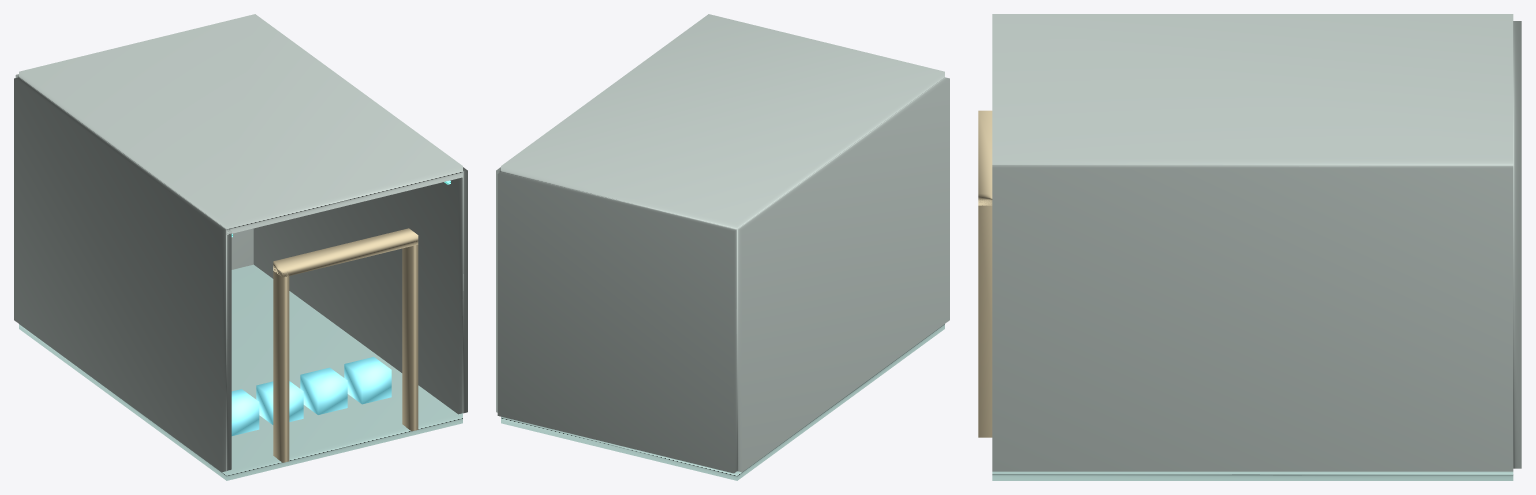
The model's file is food-cold-annex-shell.glb.
The picture shows the model from 3 angles, left to right: view 1: azimuth 30°, elevation 25°; view 2: azimuth 150°, elevation 25°; view 3: azimuth 270°, elevation 25°; orthographic projection. The views are drawn at different scales.
Parts seen in each view (by area): view 1: shell-material-5-0, shell-material-6-0, shell-material-8-0, shell-material-10-0; view 2: shell-material-5-0, shell-material-6-0; view 3: shell-material-5-0, shell-material-6-0, shell-material-8-0.
Part boxes in pixels (<box>): shell-material-5-0: <box>14,14,467,472</box>; shell-material-6-0: <box>19,264,462,480</box>; shell-material-8-0: <box>273,228,418,462</box>; shell-material-10-0: <box>231,357,391,435</box>; shell-material-5-0: <box>496,14,949,473</box>; shell-material-6-0: <box>501,324,944,480</box>; shell-material-5-0: <box>992,14,1521,471</box>; shell-material-6-0: <box>992,471,1513,480</box>; shell-material-8-0: <box>978,110,992,437</box>.
Size of the model in its own units: 4.58 by 4.58 by 6.98.
